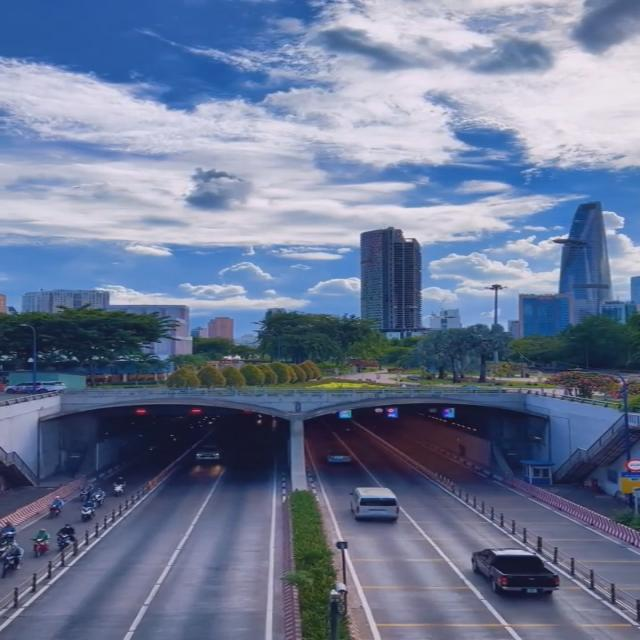bus: (350, 486, 401, 524)
car: (474, 542, 561, 600)
motorbike: (32, 529, 52, 557), (57, 524, 77, 552), (49, 496, 66, 518), (78, 502, 98, 520), (112, 477, 126, 497), (90, 489, 104, 506), (80, 485, 89, 501)
truck: (625, 380, 640, 443)
